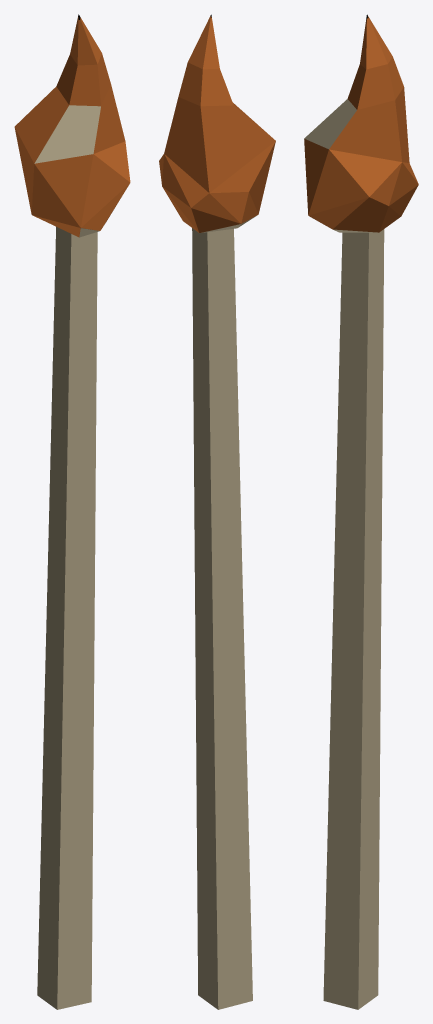
The model's file is Match.gltf.
3 views of the same model, side by side, from view 1: azimuth 30°, elevation 25°; view 2: azimuth 210°, elevation 25°; view 3: azimuth 330°, elevation 25° (orthographic).
Visible parts, largest first — view 1: Match_Fire_Cube.014; view 2: Match_Fire_Cube.014; view 3: Match_Fire_Cube.014.
Part boxes in pixels (x1,y1,x2,y2): Match_Fire_Cube.014: [14, 14, 130, 1009]; Match_Fire_Cube.014: [159, 14, 275, 1009]; Match_Fire_Cube.014: [304, 14, 418, 1009].
Bounding box in the file's own units: 0.0689 × 0.6853 × 0.0703.
1 material, 1 textured.
